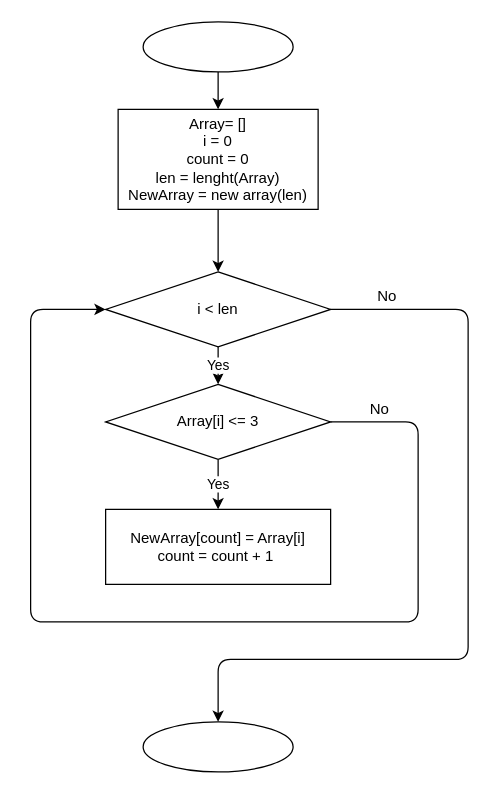
The diagram is 500 pixels wide and 794 high, and some of its shapes have lost their labels. The shapes that lost their labels are listed below. From the top down, each one's box as (x1, y1, x2, y2) in pixels, then its label:
(142, 21, 293, 72): Начало
(142, 721, 293, 772): Конец
